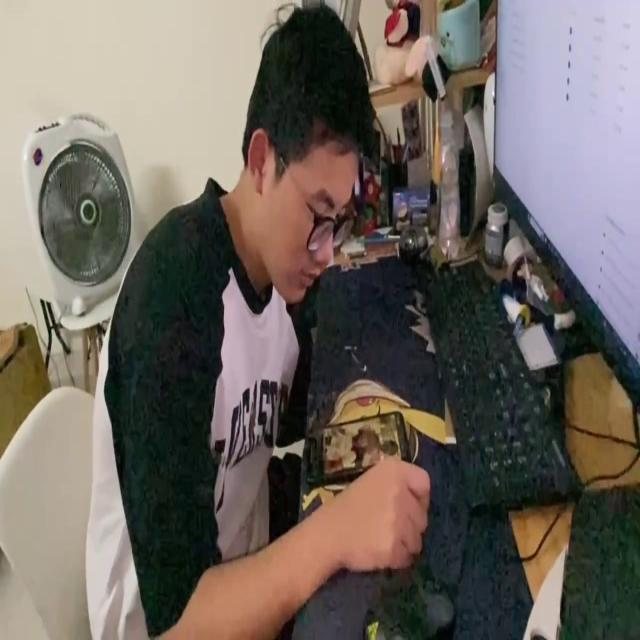laptop: (491, 0, 640, 410)
phone: (298, 409, 412, 483)
student: (76, 3, 432, 640)
